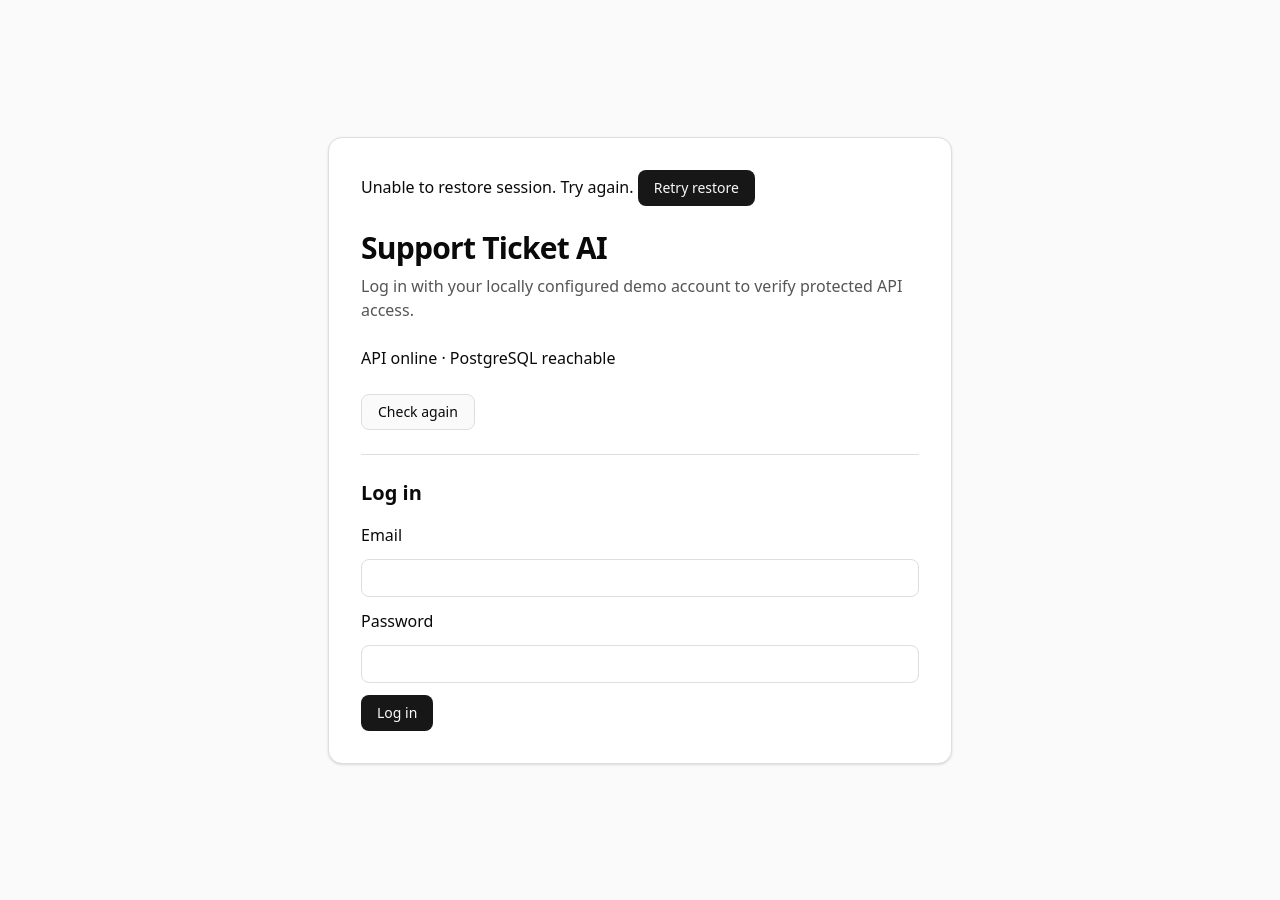
Test: restore and logout failures › keeps the login form available after transient restore failure and retries successfully
Expected: the field labelled "Email" is shown, x1=361 y1=558 x2=919 y2=596
Step 1. Click the button "Retry restore" → click(696, 188), box x1=638 y1=170 x2=755 y2=206
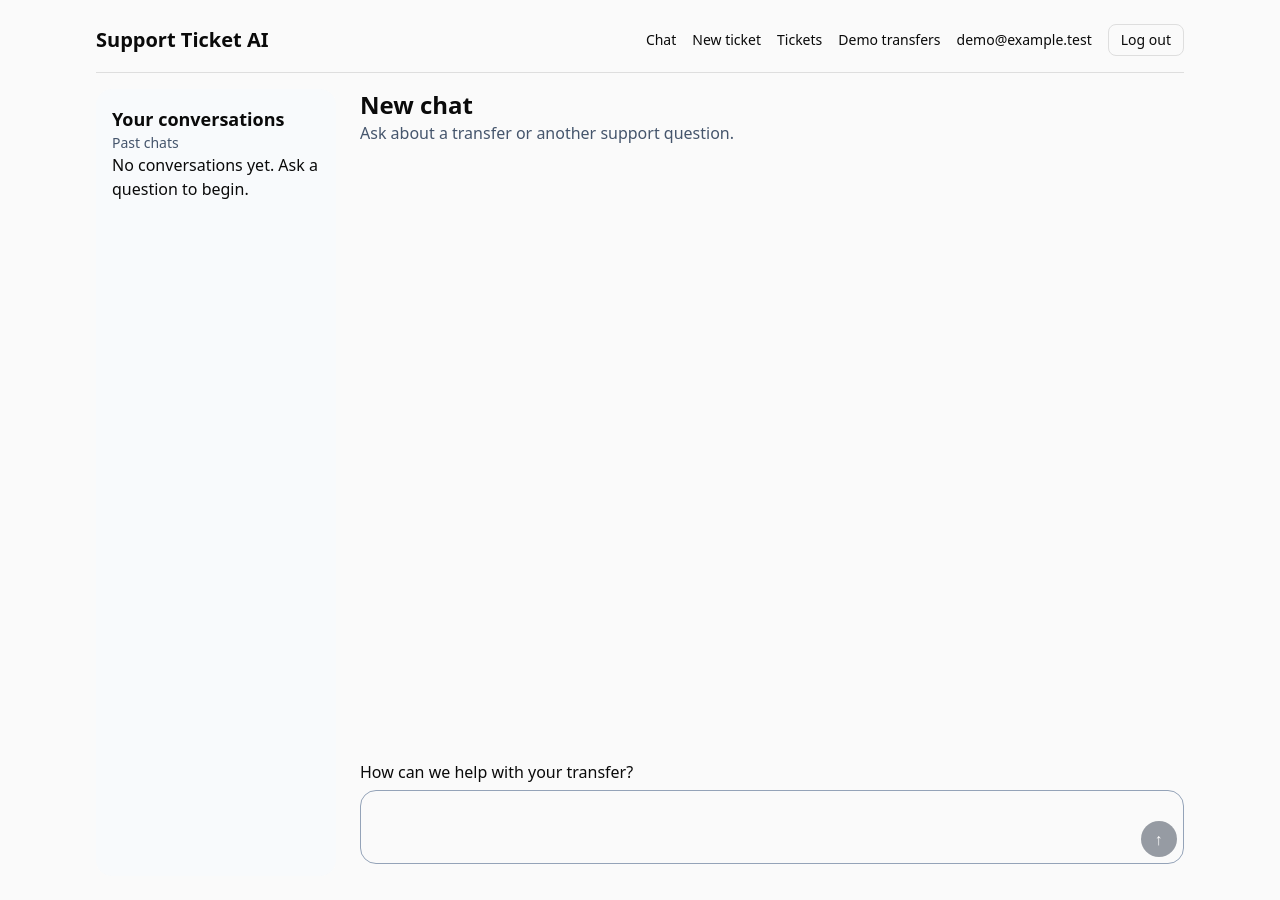
Expected: the text "demo@example.test" is shown, x1=957 y1=30 x2=1092 y2=50
